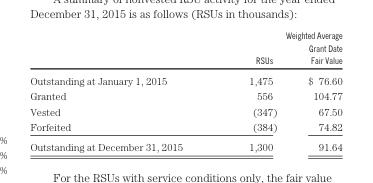table: (29, 29, 341, 152)
table column: (29, 29, 215, 152), (215, 29, 280, 152), (280, 29, 341, 152)
table column header: (29, 29, 341, 69)
table row: (29, 29, 341, 69), (29, 69, 341, 87), (29, 118, 341, 136), (29, 87, 341, 103), (29, 136, 341, 152), (29, 103, 341, 118)
